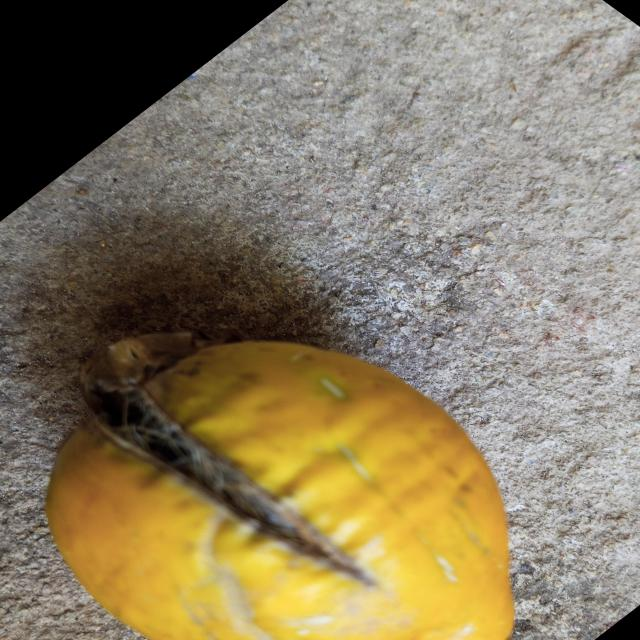damaged: (46, 339, 515, 640)
